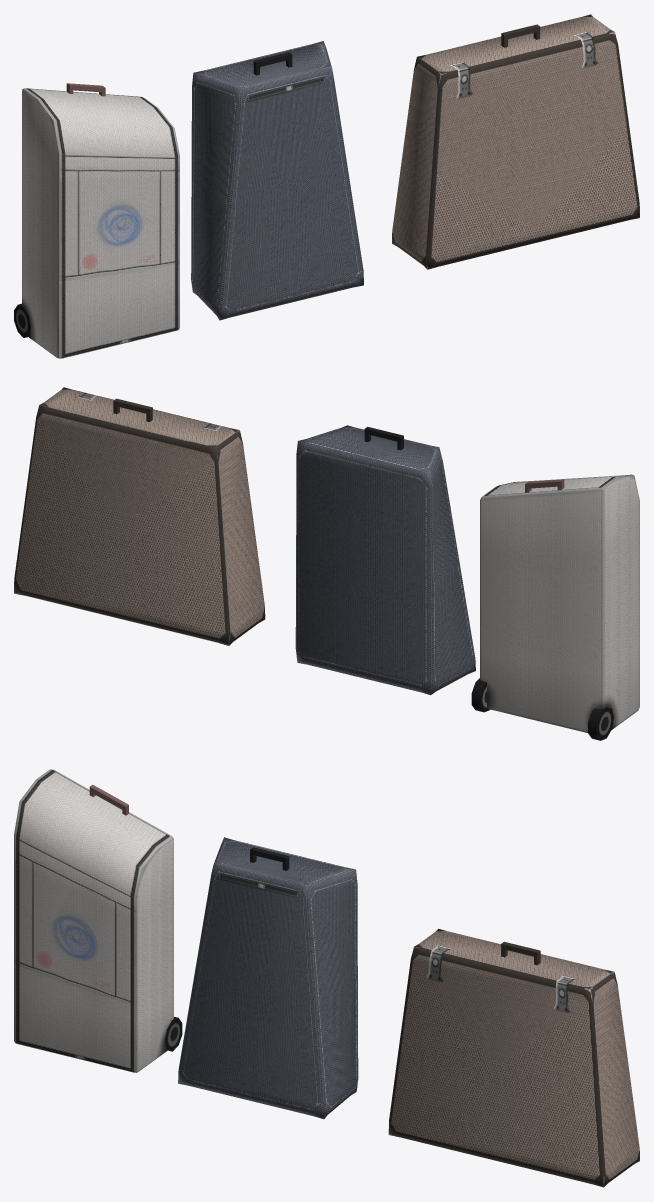
File: Valize.FBX
The picture shows the model from 3 angles, top to bottom: view 1: azimuth 30°, elevation 25°; view 2: azimuth 150°, elevation 25°; view 3: azimuth 330°, elevation 25°; orthographic projection.
Visible parts, largest first — view 1: Box017, Box018, Box020; view 2: Box017, Box020, Box018; view 3: Box017, Box018, Box020.
Part boxes in pixels (<box>): Box017: <box>392,14,639,269</box>; Box018: <box>14,83,179,358</box>; Box020: <box>191,41,363,320</box>; Box017: <box>14,387,265,645</box>; Box020: <box>295,425,475,695</box>; Box018: <box>471,474,639,740</box>; Box017: <box>388,928,639,1187</box>; Box018: <box>14,769,182,1072</box>; Box020: <box>178,837,358,1119</box>.
Size of the model in its own units: 62.41 by 25.3 by 8.18.
